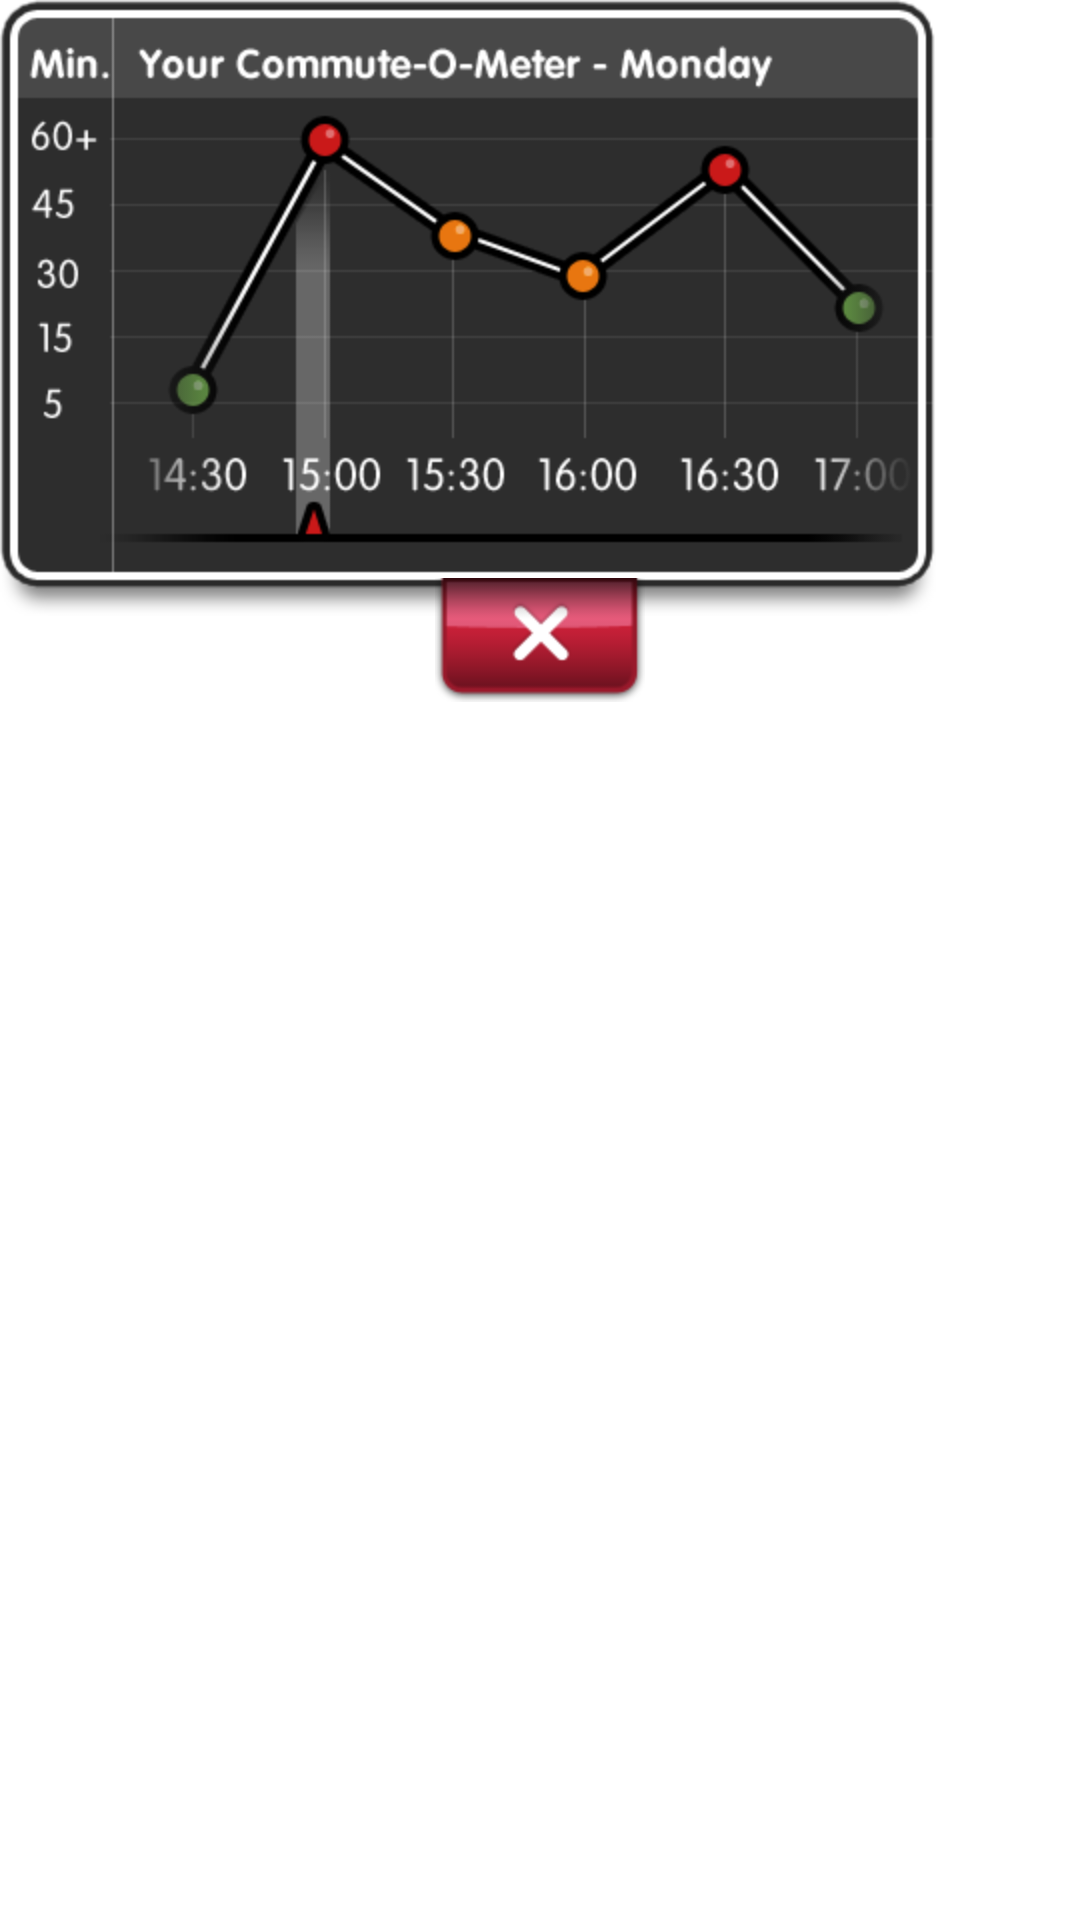

Icons on this 1080w x 1920h Android screen, each with the point to tap as [x,y]:
widget close: [540,639]
